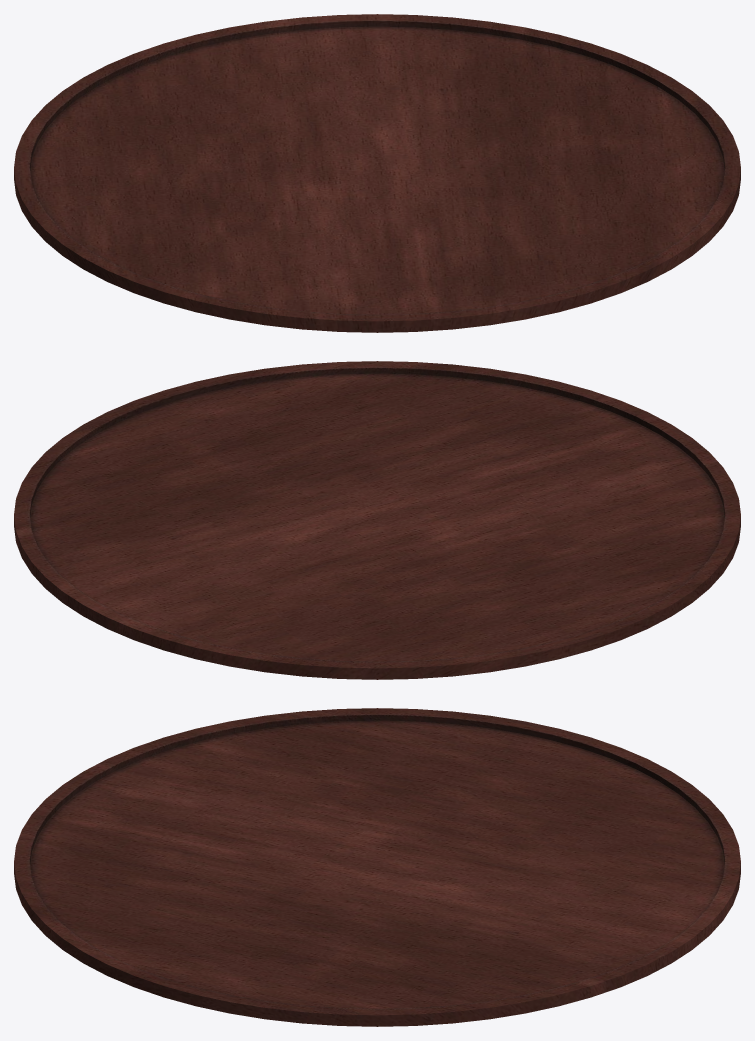
Rendered from BaseTablero.fbx.
The picture shows the model from 3 angles, top to bottom: view 1: azimuth 30°, elevation 25°; view 2: azimuth 150°, elevation 25°; view 3: azimuth 270°, elevation 25°; orthographic projection.
Visible parts, largest first — view 1: TableBase; view 2: TableBase; view 3: TableBase.
Part boxes in pixels (bbox=[...]): TableBase: bbox=[14, 14, 740, 332]; TableBase: bbox=[14, 361, 740, 679]; TableBase: bbox=[14, 708, 740, 1026].
Size of the model in its own units: 173 by 3 by 173.
